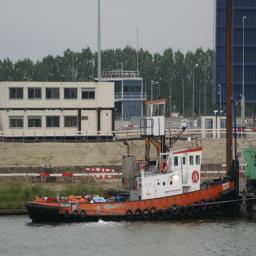tugboat: (25, 98, 243, 235)
